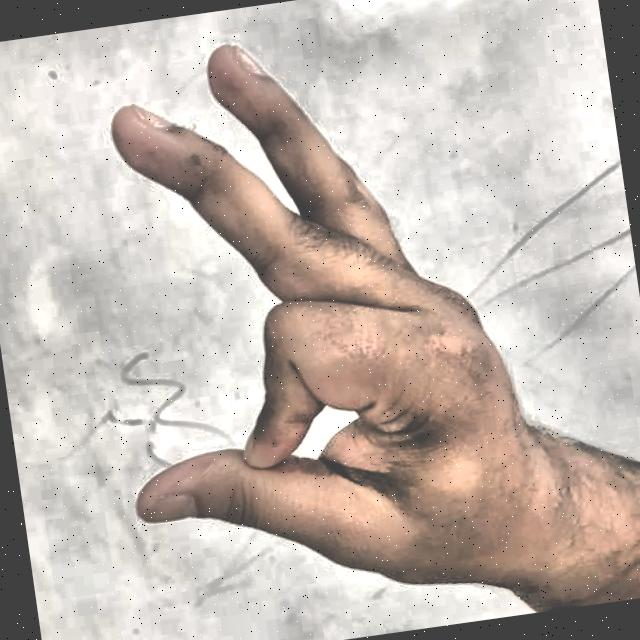Uo: (19, 0, 636, 640)
